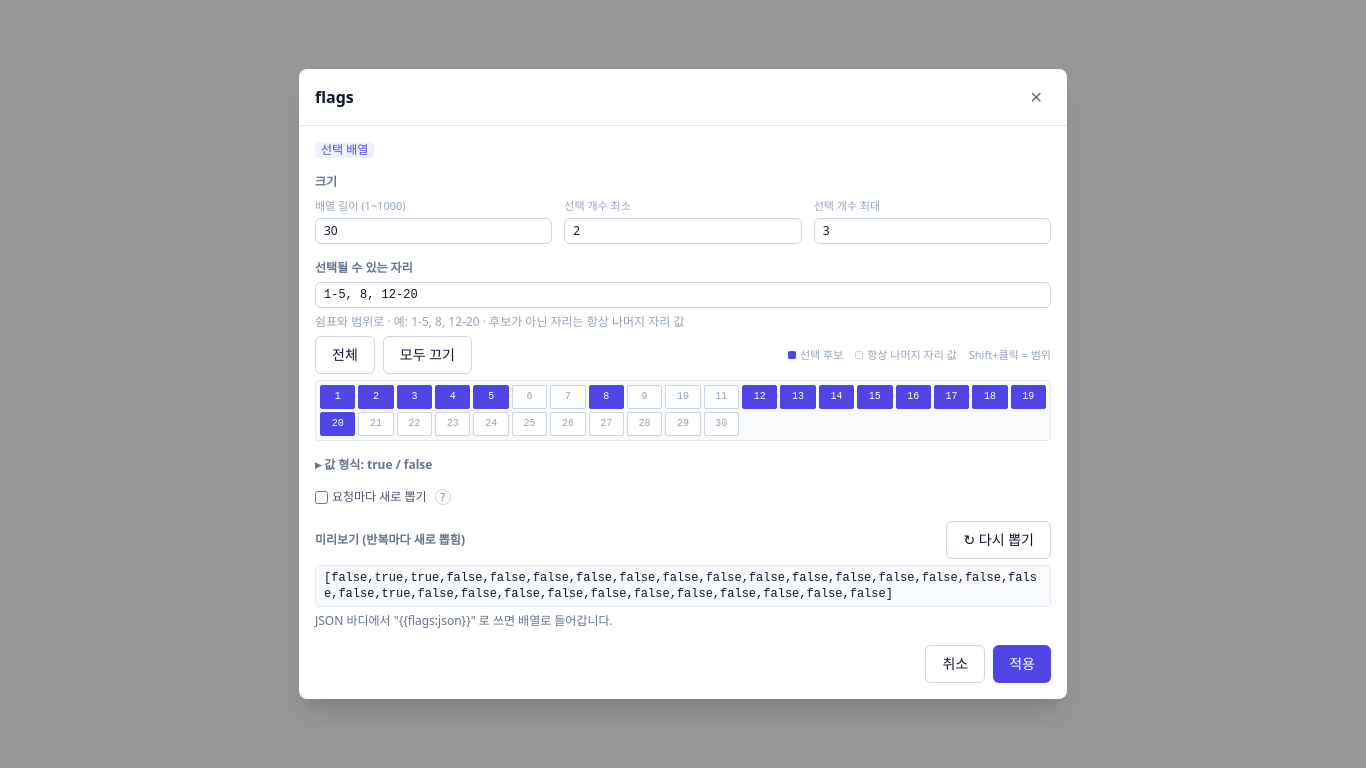
PickArrayDialog › 길이 재입력 중간값에서 positions를 깎지 않는다 (30 → 25)
Step 1. Clear the number field labelled "배열 길이 (1~1000)" → (434, 231), box [315, 218, 552, 244]
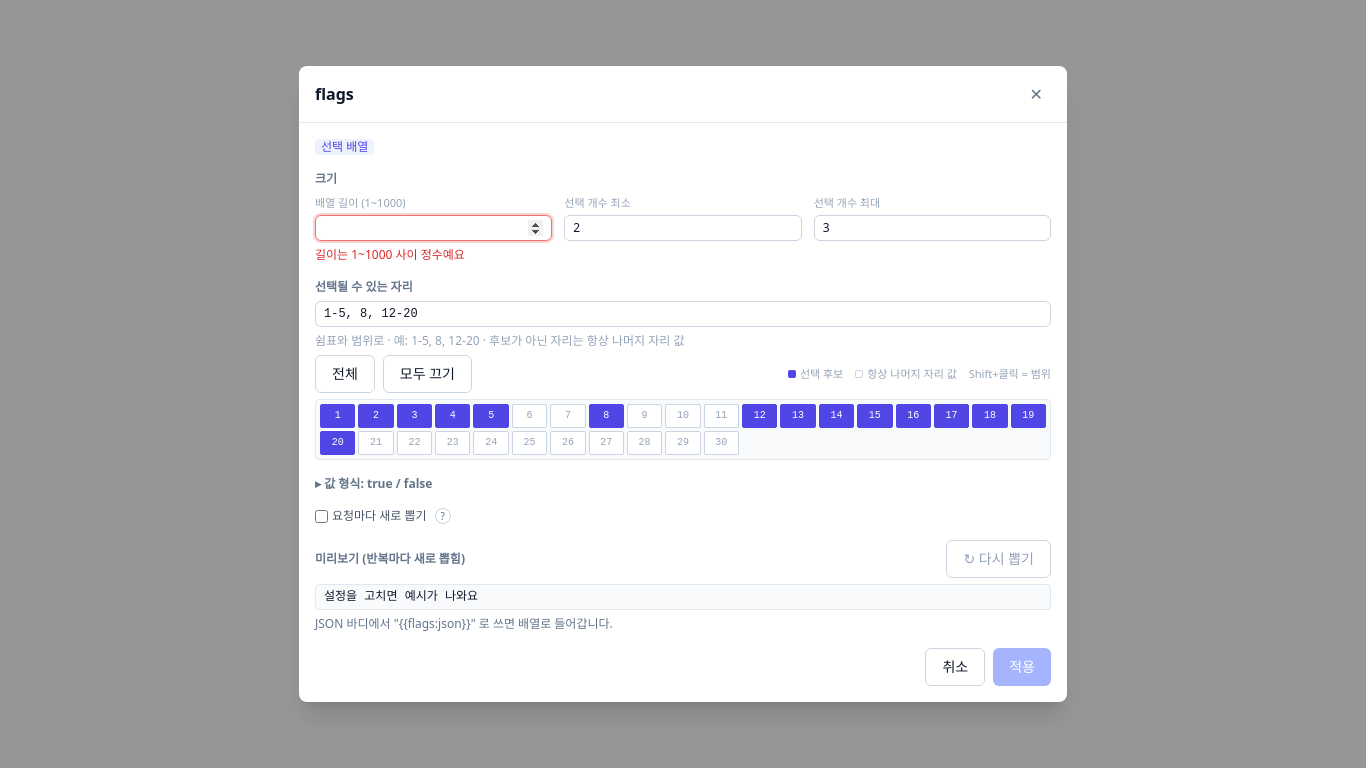
Step 2. Type "25" into the number field labelled "배열 길이 (1~1000)" → (434, 228), box [315, 215, 552, 241]
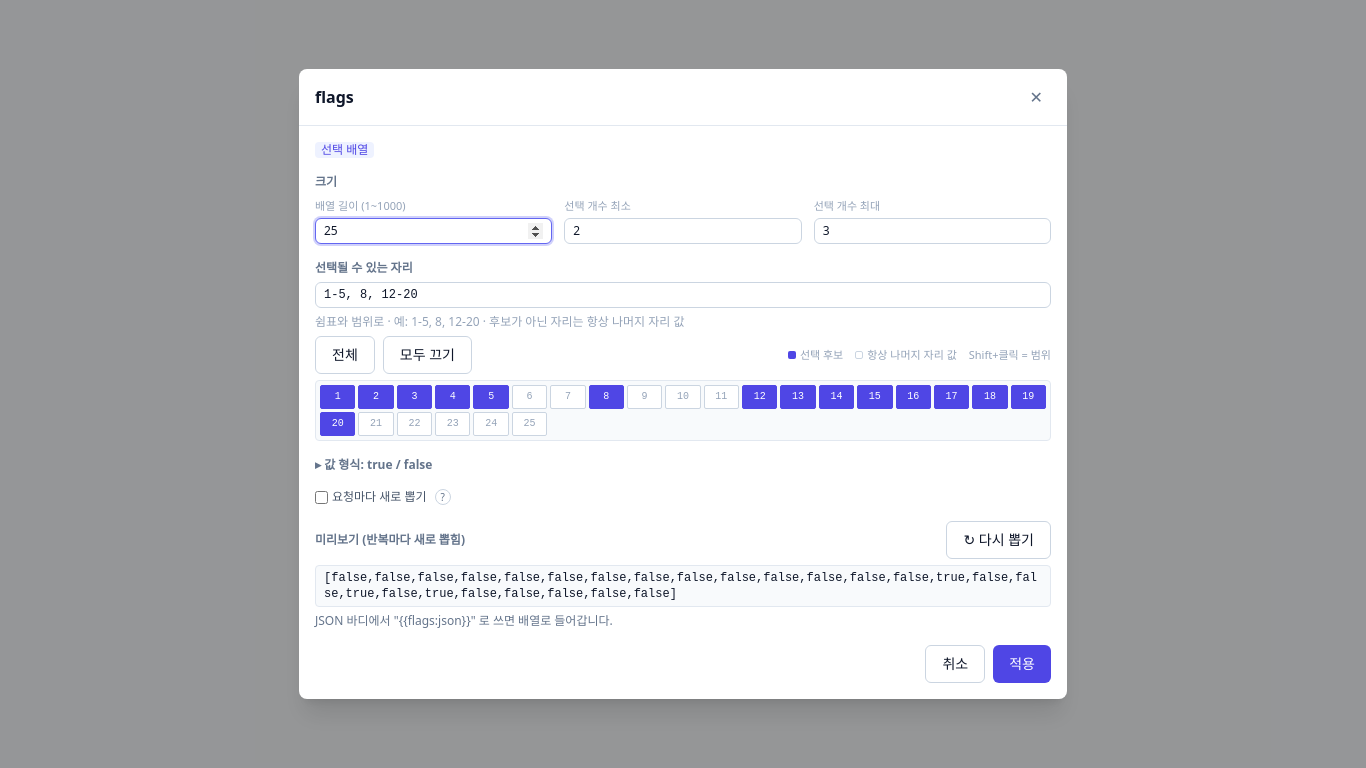
Expected: the field named "선택될 수 있는 자리" holds "1-5, 8, 12-20", [315, 282, 1051, 308]
Step 3. Press Tab
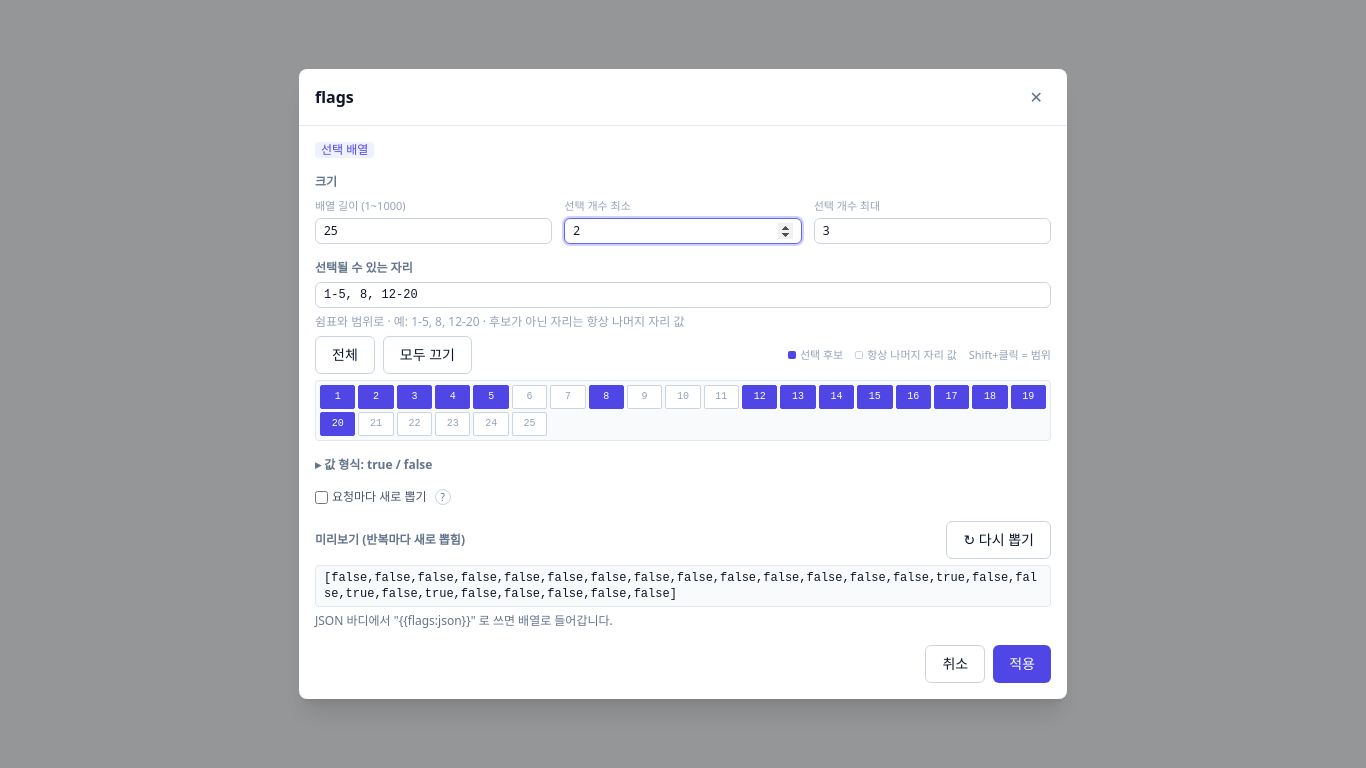
Expected: the field named "선택될 수 있는 자리" holds "1-5, 8, 12-20", [315, 282, 1051, 308]
Step 4. Clear the number field labelled "배열 길이 (1~1000)" → (434, 231), box [315, 218, 552, 244]
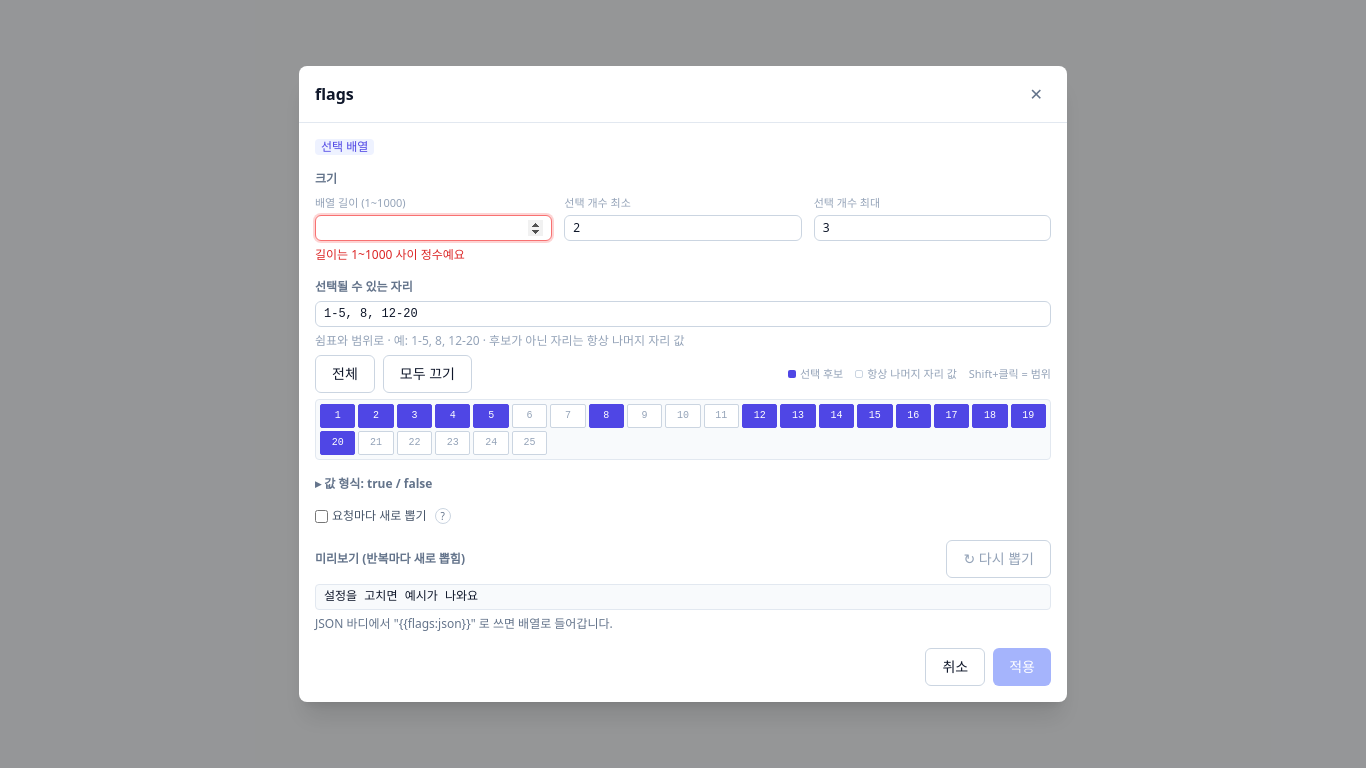
Step 5. Type "10" into the number field labelled "배열 길이 (1~1000)" → (434, 228), box [315, 215, 552, 241]
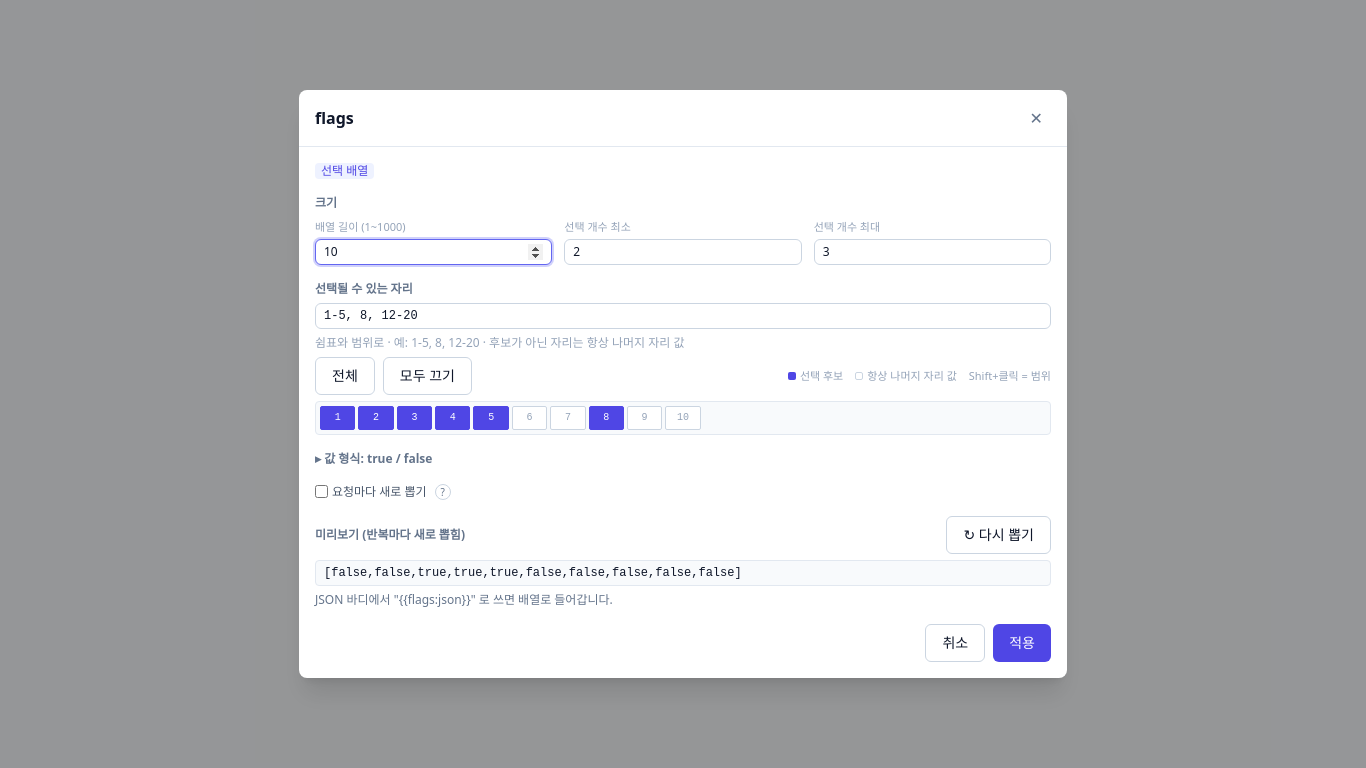
Step 6. Press Tab
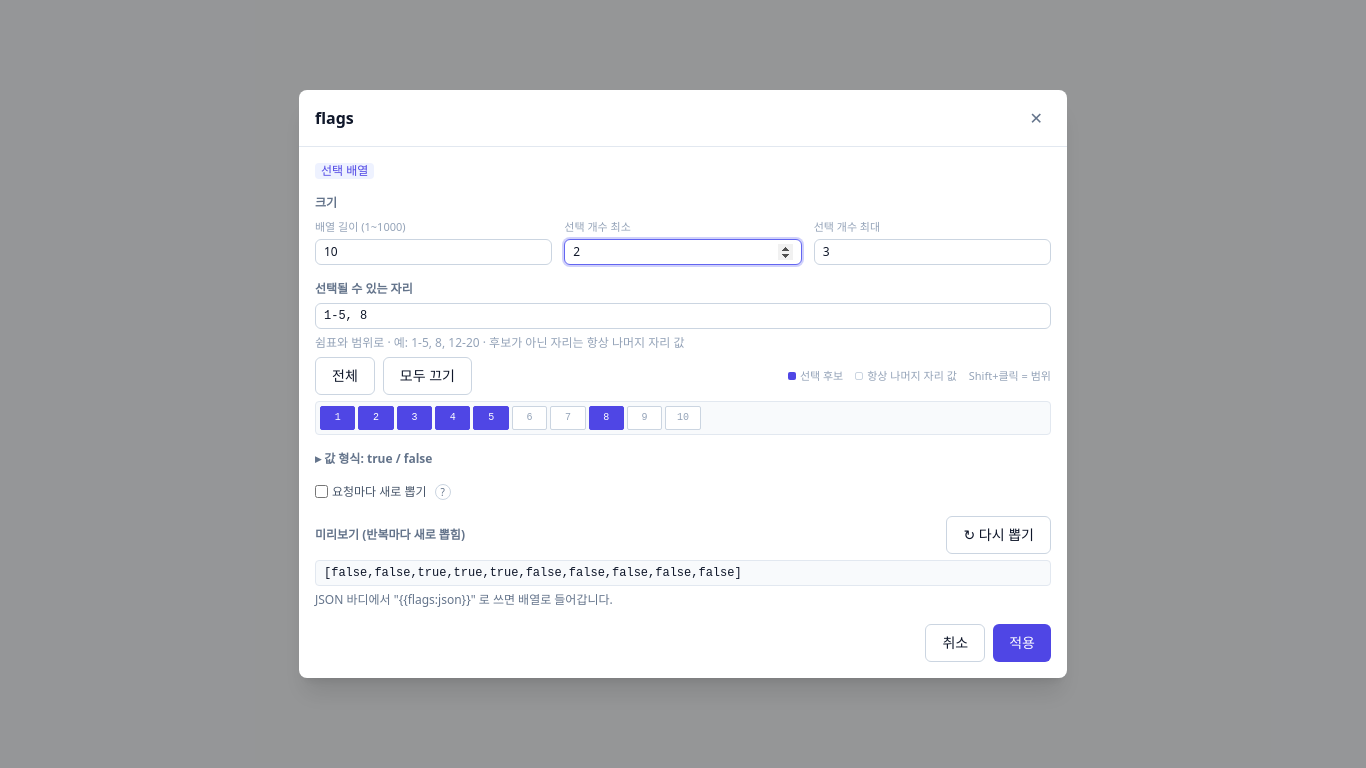
Expected: the field named "선택될 수 있는 자리" holds "1-5, 8", [315, 303, 1051, 329]
